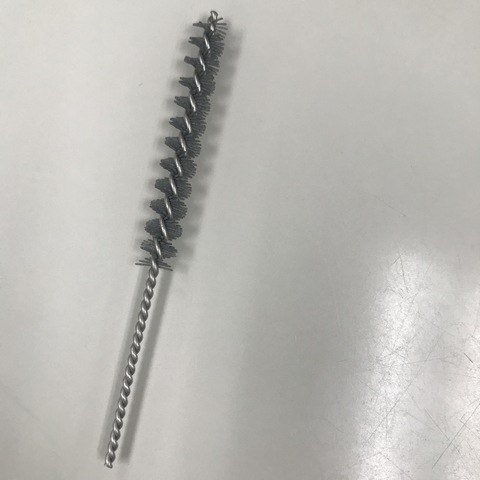Twist Brush-A: (94, 9, 231, 472)
